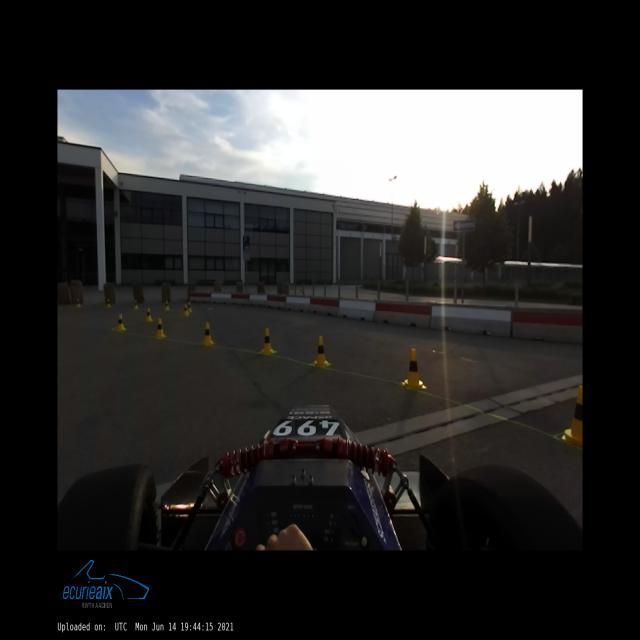yellow_cone: (562, 386, 582, 444), (402, 350, 427, 389), (313, 336, 330, 366), (260, 328, 274, 354), (202, 323, 213, 344), (155, 318, 165, 337), (116, 314, 125, 330), (145, 308, 152, 320), (183, 305, 188, 315), (164, 301, 169, 310), (187, 302, 192, 311), (106, 298, 110, 307), (76, 298, 80, 307), (134, 300, 137, 308)
